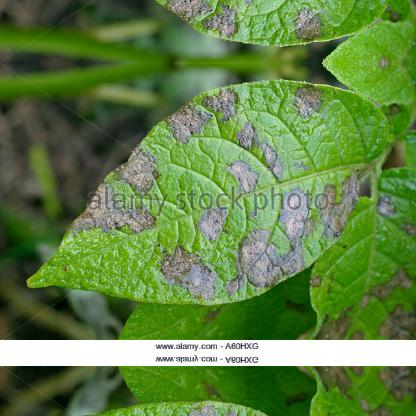Early-Blight: (26, 76, 376, 300), (312, 164, 412, 338), (26, 0, 375, 48), (311, 367, 412, 416)
